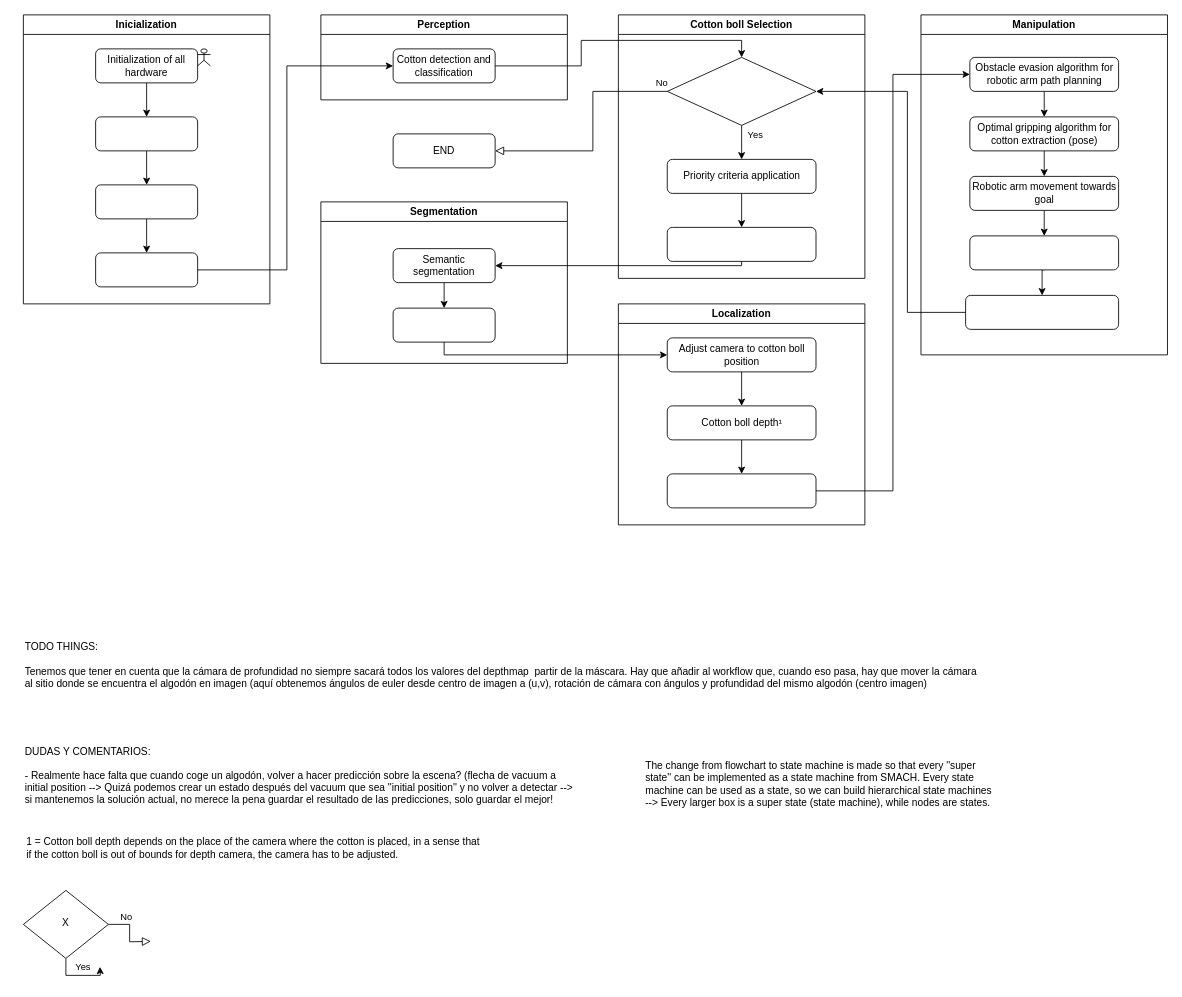
The diagram is 1182 pixels wide and 997 high, and some of its shapes have lost their labels. Here are the shapes that lost their labels. From the top down, the centre of each, then its label:
point 741,91: Ready-to-harvest cotton?
point 146,133: Coordinate system initialization
point 146,201: Module inicialization
point 741,244: Cotton boll selection by criteria
point 1044,252: Cotton boll vacuum (turn on vacuum / turn off)
point 146,269: Acquire initial position
point 443,324: Centroid computing
point 1042,312: Return to initial position
point 741,490: Cotton world coordinate calculation
